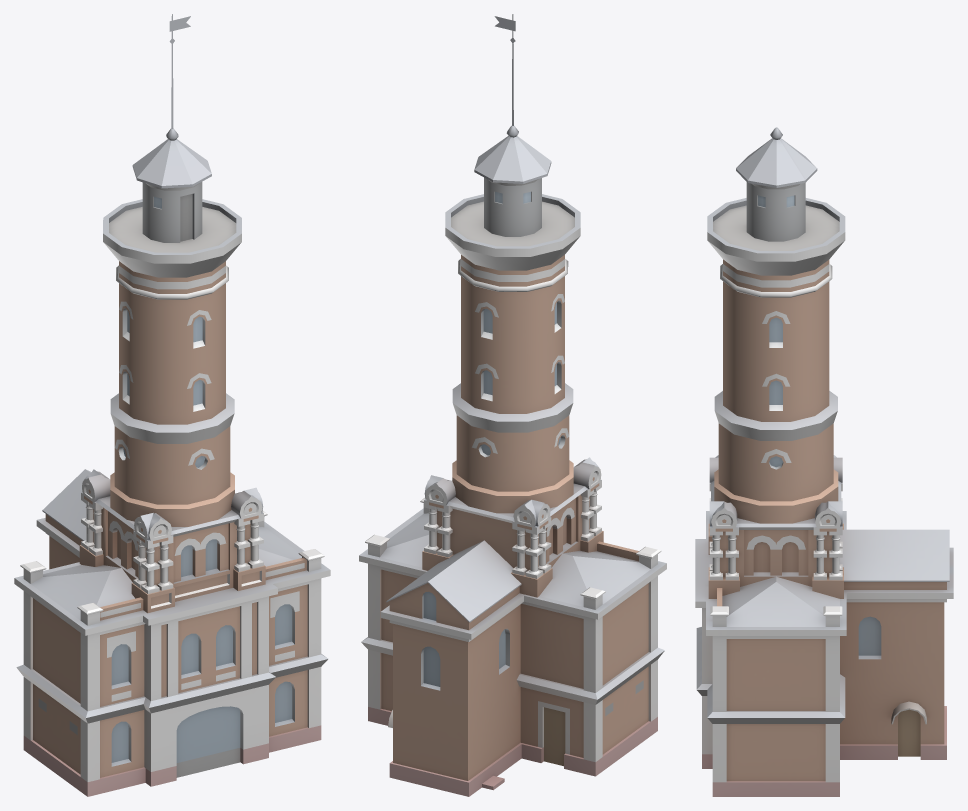
File: firetower.glb
The picture shows the model from 3 angles, left to right: view 1: azimuth 30°, elevation 25°; view 2: azimuth 150°, elevation 25°; view 3: azimuth 270°, elevation 25°; orthographic projection. The views are drawn at different scales.
Parts seen in each view (by area): view 1: firetower; view 2: firetower; view 3: firetower.
Part boxes in pixels (x1,y1,x2,y2): firetower: (14,14,330,796); firetower: (359,14,666,796); firetower: (695,127,953,796).
Size of the model in its own units: 10.5 by 29.9 by 9.65.
Materials: 1 (1 with a texture image).
